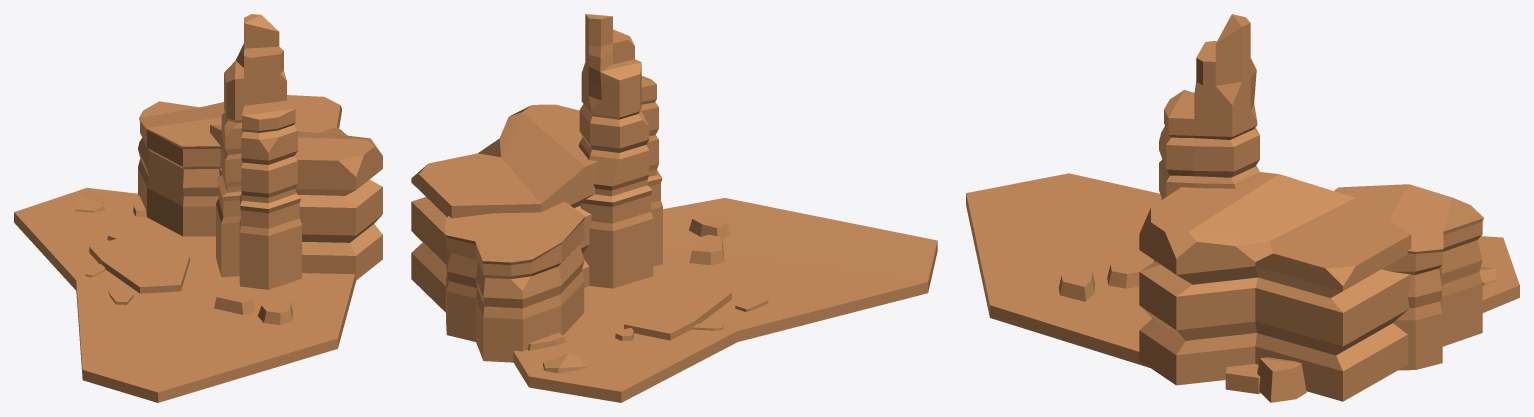
File: SandRocks4_LOD1.fbx
3 renders of one model, left to right at view 1: azimuth 30°, elevation 25°; view 2: azimuth 150°, elevation 25°; view 3: azimuth 270°, elevation 25°, orthographic. The views are drawn at different scales.
Parts seen in each view (by area): view 1: Plane.105; view 2: Plane.105; view 3: Plane.105.
Boxes of the visible parts, left/top/right/bottom form: Plane.105: left=14, top=14, right=382, bottom=402; Plane.105: left=411, top=14, right=937, bottom=402; Plane.105: left=966, top=14, right=1519, bottom=402.
Size of the model in its own units: 159 by 103 by 167.
